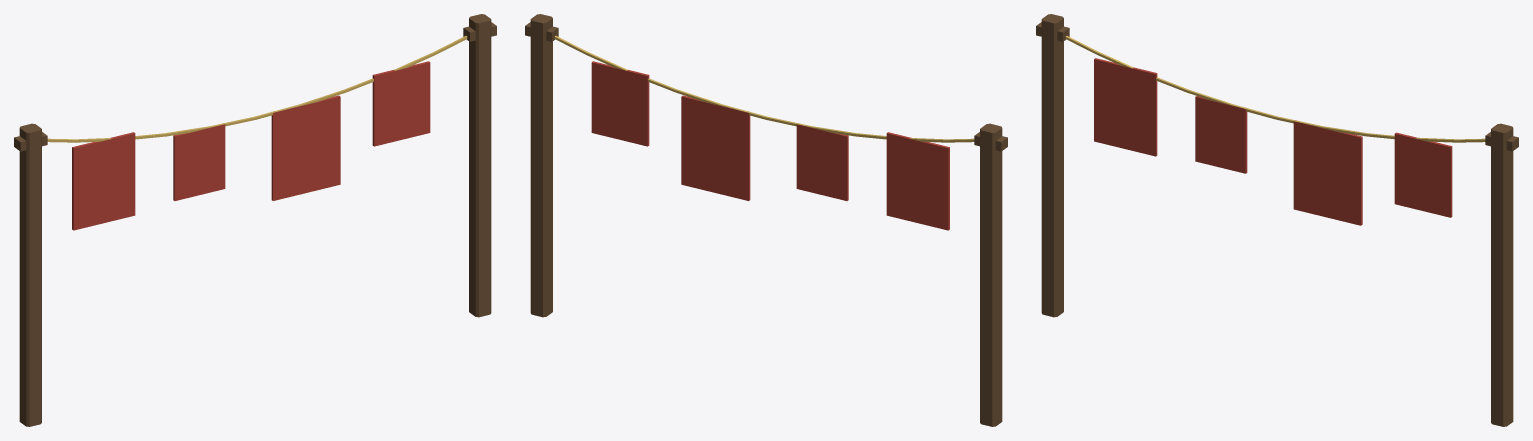
File: laundry_line_lod0.glb
3 views of the same model, side by side, from view 1: azimuth 30°, elevation 25°; view 2: azimuth 150°, elevation 25°; view 3: azimuth 330°, elevation 25° (orthographic).
Visible parts, largest first — view 1: laundry_line; view 2: laundry_line; view 3: laundry_line.
Part boxes in pixels (x1,y1,x2,y2): laundry_line: [14, 14, 496, 426]; laundry_line: [525, 14, 1007, 426]; laundry_line: [1036, 14, 1518, 426].
Bounding box in the file's own units: 4.24 × 2.5 × 0.14.
